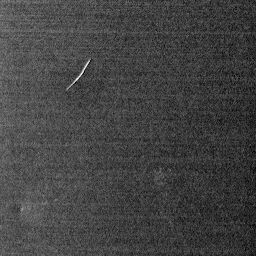sct: (65, 55, 95, 96)
